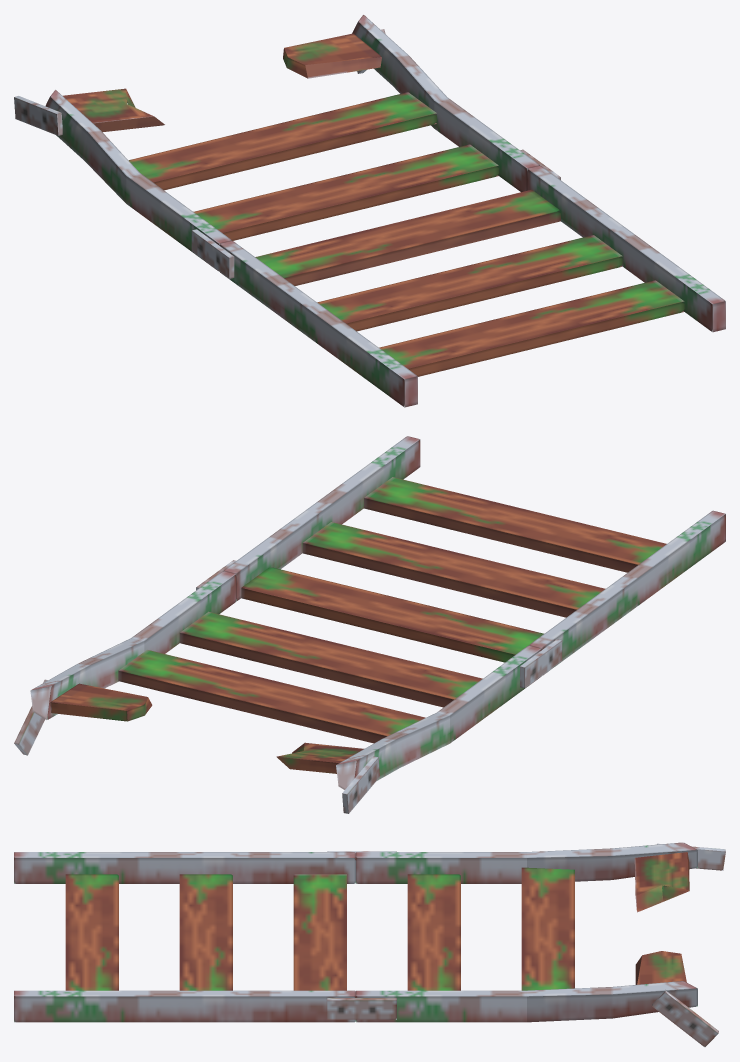
Rendered from train tracks_Broken.fbx.
3 views of the same model, one above another, from view 1: azimuth 30°, elevation 25°; view 2: azimuth 150°, elevation 25°; view 3: azimuth 270°, elevation 25° (orthographic). The views are drawn at different scales.
Visible parts, largest first — view 1: cuboid_4, cuboid, cuboid_1, cuboid_5, cuboid_2, cube_1, cube, cube_2, cube_3, cuboid_3, cube_6, cube_4; view 2: cuboid_5, cuboid, cuboid_2, cuboid_1, cuboid_4, cube_1, cube_2, cube, cube_3, cuboid_3, cube_4, cube_6 (+1 smaller); view 3: cube, cube_3, cube_1, cube_2, cuboid_4, cuboid_2, cuboid, cuboid_1, cuboid_5, cuboid_3, cube_5, cube_7 (+1 smaller).
Part boxes in pixels (x1,y1,x2,y2): cuboid_4: (129, 92, 436, 190); cuboid: (317, 235, 622, 331); cuboid_1: (379, 280, 684, 376); cuboid_5: (193, 144, 498, 240); cuboid_2: (255, 189, 560, 285); cube_1: (219, 240, 417, 407); cube: (527, 165, 725, 332); cube_2: (45, 90, 231, 271); cube_3: (352, 15, 539, 192); cuboid_3: (63, 33, 381, 132); cube_6: (14, 96, 62, 135); cube_4: (191, 229, 234, 278); cuboid_5: (179, 611, 482, 707); cuboid: (302, 522, 605, 617); cuboid_2: (241, 567, 543, 662); cuboid_1: (364, 477, 666, 572); cuboid_4: (118, 649, 425, 743); cube_1: (529, 510, 725, 675); cube_2: (336, 645, 541, 789); cube: (223, 436, 420, 601); cube_3: (30, 571, 236, 719); cuboid_3: (50, 683, 364, 773); cube_4: (520, 639, 562, 688); cube_6: (342, 756, 379, 813); cube: (14, 990, 355, 1022); cube_3: (356, 981, 697, 1022); cube_1: (14, 852, 355, 883); cube_2: (356, 842, 697, 883); cuboid_4: (521, 867, 574, 990); cuboid_2: (293, 874, 346, 990); cuboid: (179, 874, 232, 990); cuboid_1: (65, 874, 118, 990); cuboid_5: (407, 874, 460, 990); cuboid_3: (634, 852, 689, 984); cube_5: (327, 998, 396, 1019); cube_7: (652, 990, 718, 1047).
Bounding box in the file's own units: 318 × 57.35 × 625.
Materials: 1 (1 with a texture image).
